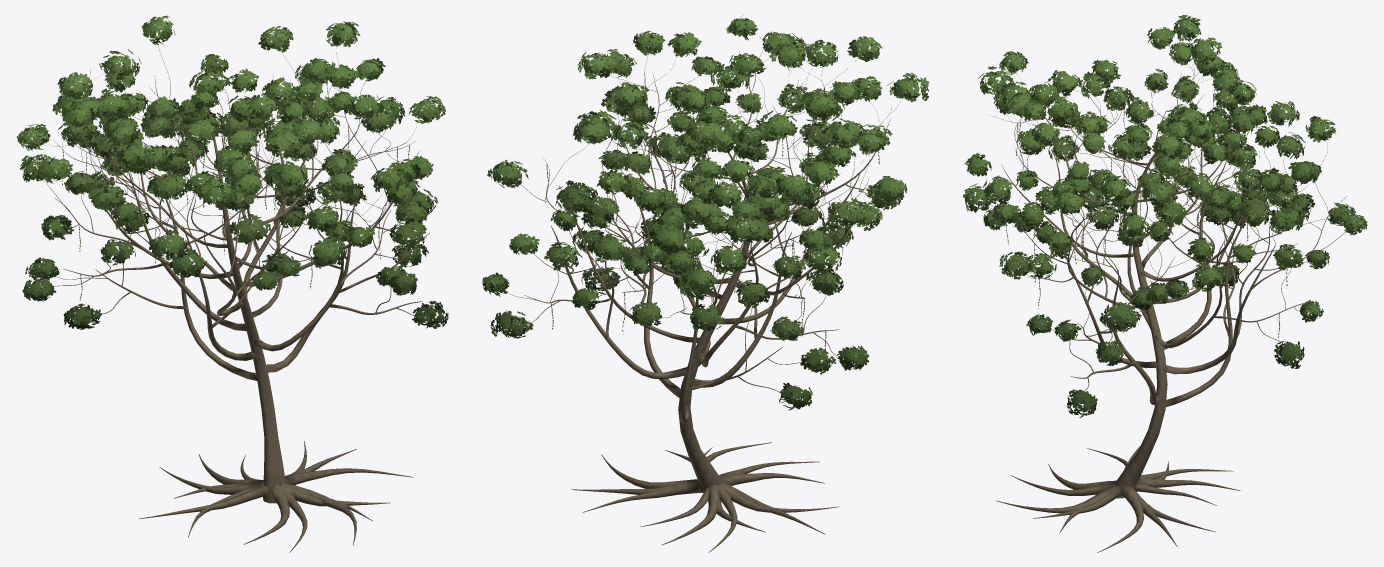
Rendered from tree.gltf.
3 views of the same model, side by side, from view 1: azimuth 30°, elevation 25°; view 2: azimuth 150°, elevation 25°; view 3: azimuth 270°, elevation 25° (orthographic). The views are drawn at different scales.
Parts seen in each view (by area): view 1: Tree_LOD0; view 2: Tree_LOD0; view 3: Tree_LOD0.
Part boxes in pixels (box(x1,y1,x2,y2)): Tree_LOD0: box(16, 15, 448, 552); Tree_LOD0: box(482, 15, 929, 552); Tree_LOD0: box(962, 15, 1367, 552).
Size of the model in its own units: 103 by 114 by 103.
2 materials, 2 textured.
